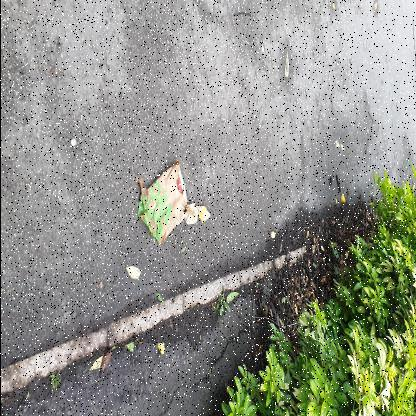paper: (136, 160, 186, 244)
